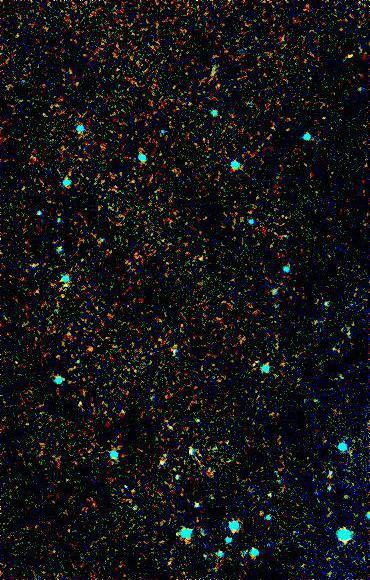star: (75, 335, 105, 365)
